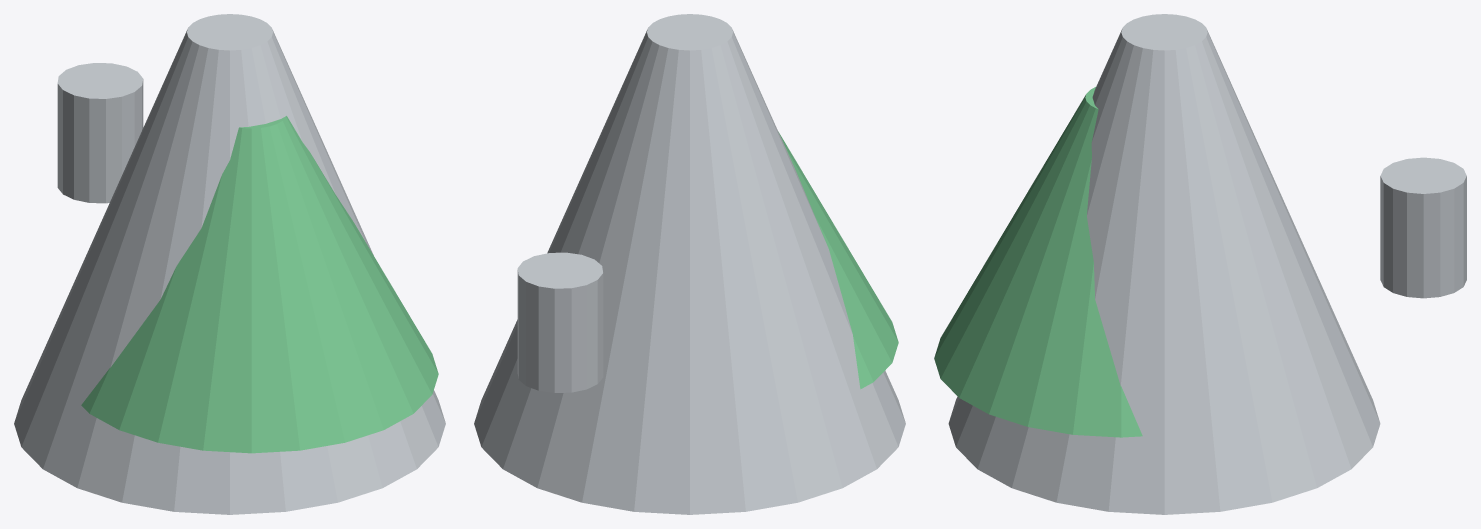
The model's file is erlenmeyer_flask.glb.
The picture shows the model from 3 angles, left to right: view 1: azimuth 30°, elevation 25°; view 2: azimuth 150°, elevation 25°; view 3: azimuth 270°, elevation 25°; orthographic projection.
Visible parts, largest first — view 1: Liquid, FlaskBody, Neck; view 2: FlaskBody, Neck, Liquid; view 3: FlaskBody, Liquid, Neck.
Boxes of the visible parts, box(x1,y1,x2,y2) form: Liquid: box(81, 116, 438, 453); FlaskBody: box(14, 14, 445, 514); Neck: box(57, 63, 143, 203); FlaskBody: box(474, 14, 905, 514); Neck: box(517, 252, 603, 392); Liquid: box(778, 131, 898, 389); FlaskBody: box(948, 14, 1380, 514); Liquid: box(934, 87, 1142, 437); Neck: box(1380, 157, 1466, 298).
Bounding box in the file's own units: 3 × 3 × 3.7.
